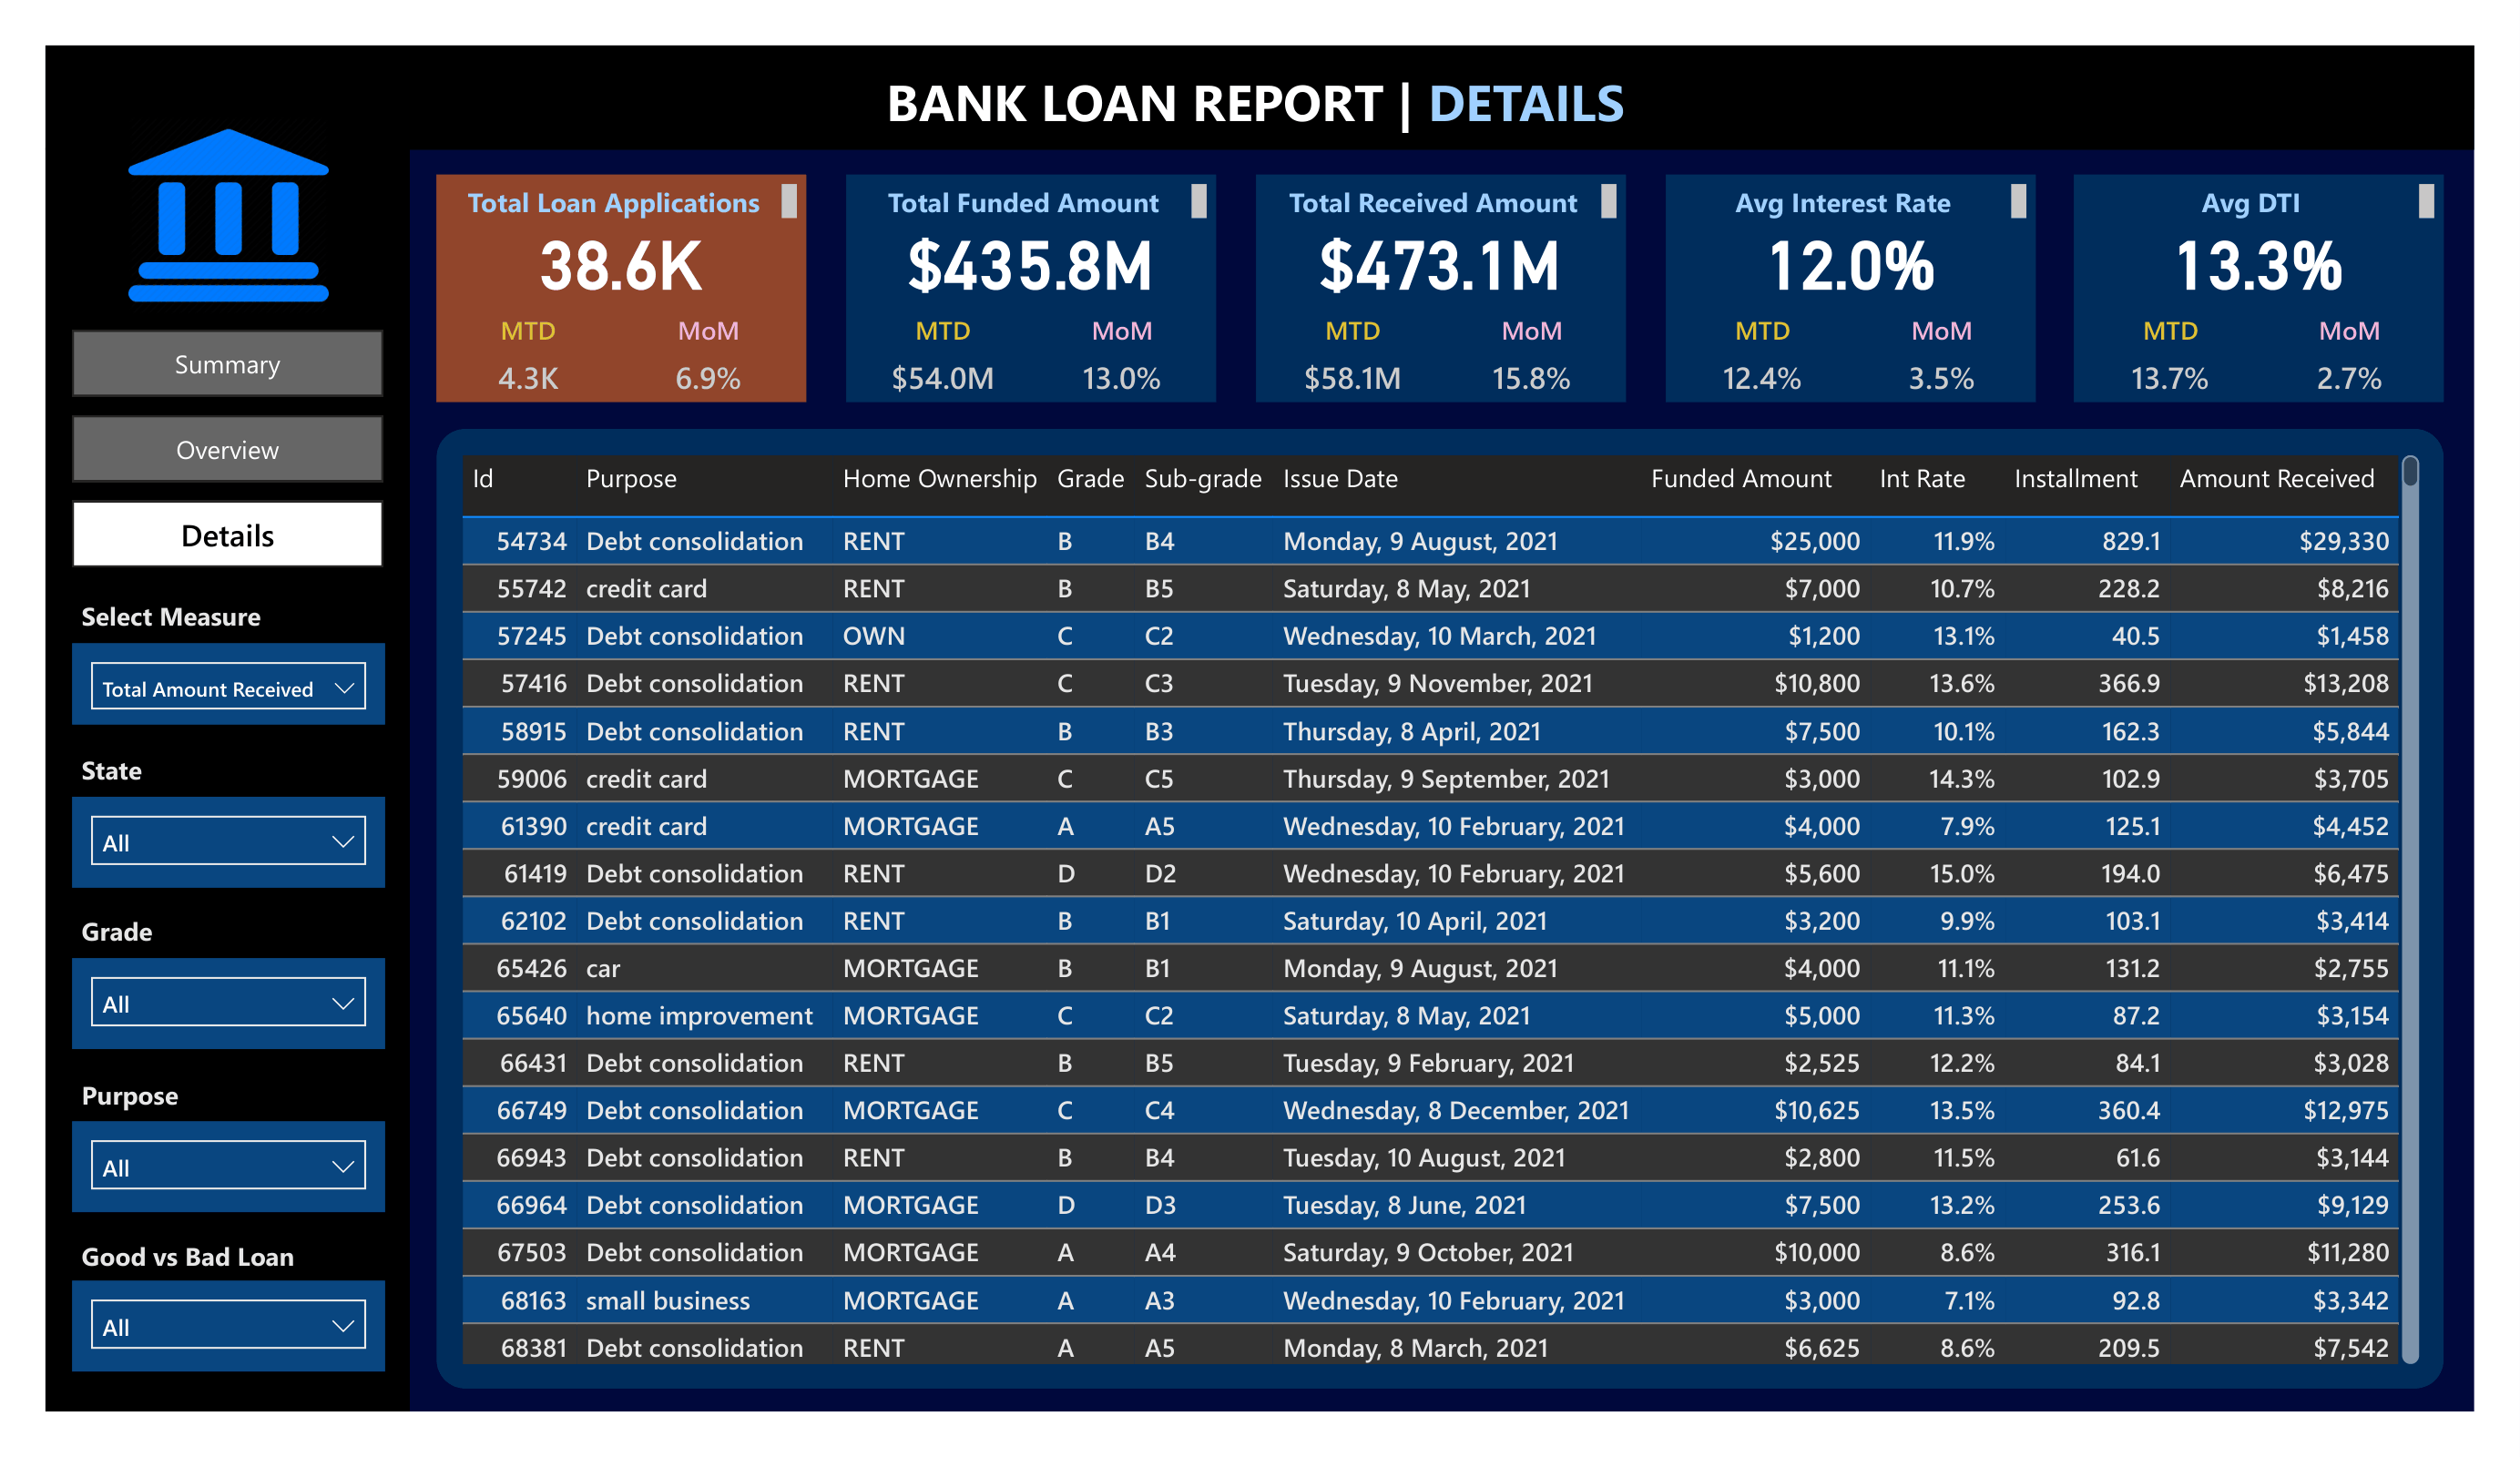

Layout of this report page (visuals, bound fields, positions):
{"tool":"powerbi","page":{"name":"Details","canvas":[1280,720],"ordinal":2},"visuals":[{"type":"shape","box":[206,67.8,194.5,120],"z":0,"group":"g1"},{"type":"shape","box":[421.9,67.8,194.5,120],"z":0,"group":"g2"},{"type":"shape","box":[637.8,67.8,194.5,120],"z":0,"group":"g3"},{"type":"shape","box":[853.7,67.8,194.5,120],"z":0,"group":"g4"},{"type":"shape","box":[1069.3,67.8,194.5,120],"z":0,"group":"g5"},{"type":"shape","box":[205.7,202.2,1058,506.2],"z":0},{"type":"shape","box":[0,0,1279.6,55],"z":1000},{"type":"cardVisual","fields":{"Data":["New Measures.Total Loan Applications"]},"box":[206,91.3,194.5,46.1],"z":1000,"group":"g1"},{"type":"cardVisual","fields":{"Data":["New Measures.Total Funded Amount"]},"box":[421.9,91.3,194.5,46.1],"z":1000,"group":"g2"},{"type":"cardVisual","fields":{"Data":["New Measures.Total Amount Received"]},"box":[637.8,91.3,194.5,46.1],"z":1000,"group":"g3"},{"type":"cardVisual","fields":{"Data":["New Measures.Avg Interest Rate"]},"box":[853.7,91.3,194.5,46.1],"z":1000,"group":"g4"},{"type":"cardVisual","fields":{"Data":["New Measures.Avg DTI"]},"box":[1069.3,91.3,194.5,46.1],"z":1000,"group":"g5"},{"type":"shape","box":[0,53.7,192,666.1],"z":2000},{"type":"textbox","box":[206,67.8,194.5,28.2],"z":2000,"group":"g1"},{"type":"textbox","box":[421.9,67.8,194.5,28.2],"z":2000,"group":"g2"},{"type":"textbox","box":[637.8,67.8,194.5,28.2],"z":2000,"group":"g3"},{"type":"textbox","box":[853.7,67.8,194.5,28.2],"z":2000,"group":"g4"},{"type":"textbox","box":[1069.3,67.8,194.5,28.2],"z":2000,"group":"g5"},{"type":"textbox","box":[437.6,5.7,443.3,49.1],"z":3000},{"type":"cardVisual","title":"MTD","fields":{"Data":["New Measures.MTD Loan Applications"]},"box":[223.9,140.7,61.4,47.3],"z":3000,"group":"g1"},{"type":"cardVisual","title":"MTD","fields":{"Data":["New Measures.MTD Funded Amount"]},"box":[439.8,140.7,66.5,47.3],"z":3000,"group":"g2"},{"type":"cardVisual","title":"MTD","fields":{"Data":["New Measures.MTD Total Amount Received"]},"box":[655.7,140.7,66.5,47.3],"z":3000,"group":"g3"},{"type":"cardVisual","title":"MTD","fields":{"Data":["New Measures.MTD Interest Rate"]},"box":[871.6,140.7,66.5,47.3],"z":3000,"group":"g4"},{"type":"cardVisual","title":"MTD","fields":{"Data":["New Measures.MTD Avg DTI"]},"box":[1087.2,140.7,66.5,47.3],"z":3000,"group":"g5"},{"type":"group","id":"g1","title":"Group 1","box":[206,67.8,194.5,120.3],"z":4000},{"type":"cardVisual","title":"MoM","fields":{"Data":["New Measures.MoM Loan Applications"]},"box":[318.6,140.7,61.4,47.3],"z":4000,"group":"g1"},{"type":"cardVisual","title":"MoM","fields":{"Data":["New Measures.MoM Total Funded Amount"]},"box":[534.5,140.7,65,47.3],"z":4000,"group":"g2"},{"type":"cardVisual","title":"MoM","fields":{"Data":["New Measures.MoM Total Amount Received"]},"box":[750.4,140.7,65,47.3],"z":4000,"group":"g3"},{"type":"cardVisual","title":"MoM","fields":{"Data":["New Measures.MoM Avg Interest Rate"]},"box":[966.3,140.7,65,47.3],"z":4000,"group":"g4"},{"type":"cardVisual","title":"MoM","fields":{"Data":["New Measures.MoM Avg DTI"]},"box":[1181.9,140.7,65,47.3],"z":4000,"group":"g5"},{"type":"group","id":"g2","title":"Group 1","box":[421.9,67.8,194.5,120.3],"z":5000},{"type":"group","id":"g3","title":"Group 1","box":[637.8,67.8,194.5,120.3],"z":6000},{"type":"group","id":"g4","title":"Group 1","box":[853.7,67.8,194.2,119.3],"z":7000},{"type":"group","id":"g5","title":"Group 1","box":[1069.3,67.8,194.2,119.3],"z":8000},{"type":"slicer","fields":{"Values":["bank_loan_data.address_state"]},"box":[14.2,395.6,164.5,48],"z":9000},{"type":"textbox","box":[14.2,368.2,82.3,32],"z":10000},{"type":"slicer","fields":{"Values":["bank_loan_data.grade"]},"box":[14.2,480.9,164.5,48],"z":11000},{"type":"textbox","box":[14.2,453.4,82.3,32],"z":12000},{"type":"slicer","fields":{"Values":["bank_loan_data.purpose"]},"box":[14.2,566.5,164.5,48],"z":13000},{"type":"textbox","box":[14.2,539,82.3,32],"z":14000},{"type":"slicer","fields":{"Values":["Select Measure.Select Measure"]},"box":[14.2,314.5,164.3,43.8],"z":15000},{"type":"slicer","fields":{"Values":["bank_loan_data.Good vs Bad Loan"]},"box":[14.2,650.7,164.5,48],"z":16000},{"type":"textbox","box":[14.2,624.4,128,30.8],"z":17000},{"type":"tableEx","fields":{"Values":["bank_loan_data.id","bank_loan_data.purpose","bank_loan_data.home_ownership","bank_loan_data.grade","bank_loan_data.sub_grade","bank_loan_data.issue_date","New Measures.Total Funded Amount","bank_loan_data.int_rate","bank_loan_data.installment","New Measures.Total Amount Received"]},"box":[213.6,211.5,1041.9,488.6],"z":18000},{"type":"textbox","box":[14.2,287.1,108.5,31.8],"z":19000},{"type":"image","box":[43.8,29.5,105.2,120.5],"z":20000},{"type":"pageNavigator","box":[14.2,150,164.3,126],"z":21000}]}

Visuals, with their boxes on the page's 1280x720 design canvas (x1, y1, x2, y2). These are canvas units, not pixel positions in the 2520x1457 screenshot, which may show the page scaled, cropped or inside an application window:
shape: x1=206, y1=68, x2=400, y2=188
shape: x1=422, y1=68, x2=616, y2=188
shape: x1=638, y1=68, x2=832, y2=188
shape: x1=854, y1=68, x2=1048, y2=188
shape: x1=1069, y1=68, x2=1264, y2=188
shape: x1=206, y1=202, x2=1264, y2=708
shape: x1=0, y1=0, x2=1280, y2=55
cardVisual - New Measures.Total Loan Applications: x1=206, y1=91, x2=400, y2=137
cardVisual - New Measures.Total Funded Amount: x1=422, y1=91, x2=616, y2=137
cardVisual - New Measures.Total Amount Received: x1=638, y1=91, x2=832, y2=137
cardVisual - New Measures.Avg Interest Rate: x1=854, y1=91, x2=1048, y2=137
cardVisual - New Measures.Avg DTI: x1=1069, y1=91, x2=1264, y2=137
shape: x1=0, y1=54, x2=192, y2=720
textbox: x1=206, y1=68, x2=400, y2=96
textbox: x1=422, y1=68, x2=616, y2=96
textbox: x1=638, y1=68, x2=832, y2=96
textbox: x1=854, y1=68, x2=1048, y2=96
textbox: x1=1069, y1=68, x2=1264, y2=96
textbox: x1=438, y1=6, x2=881, y2=55
"MTD" cardVisual: x1=224, y1=141, x2=285, y2=188
"MTD" cardVisual: x1=440, y1=141, x2=506, y2=188
"MTD" cardVisual: x1=656, y1=141, x2=722, y2=188
"MTD" cardVisual: x1=872, y1=141, x2=938, y2=188
"MTD" cardVisual: x1=1087, y1=141, x2=1154, y2=188
"Group 1" group: x1=206, y1=68, x2=400, y2=188
"MoM" cardVisual: x1=319, y1=141, x2=380, y2=188
"MoM" cardVisual: x1=534, y1=141, x2=600, y2=188
"MoM" cardVisual: x1=750, y1=141, x2=815, y2=188
"MoM" cardVisual: x1=966, y1=141, x2=1031, y2=188
"MoM" cardVisual: x1=1182, y1=141, x2=1247, y2=188
"Group 1" group: x1=422, y1=68, x2=616, y2=188
"Group 1" group: x1=638, y1=68, x2=832, y2=188
"Group 1" group: x1=854, y1=68, x2=1048, y2=187
"Group 1" group: x1=1069, y1=68, x2=1264, y2=187
slicer - bank_loan_data.address_state: x1=14, y1=396, x2=179, y2=444
textbox: x1=14, y1=368, x2=96, y2=400
slicer - bank_loan_data.grade: x1=14, y1=481, x2=179, y2=529
textbox: x1=14, y1=453, x2=96, y2=485
slicer - bank_loan_data.purpose: x1=14, y1=566, x2=179, y2=614
textbox: x1=14, y1=539, x2=96, y2=571
slicer - Select Measure.Select Measure: x1=14, y1=314, x2=178, y2=358
slicer - bank_loan_data.Good vs Bad Loan: x1=14, y1=651, x2=179, y2=699
textbox: x1=14, y1=624, x2=142, y2=655
tableEx - bank_loan_data.id x bank_loan_data.purpose: x1=214, y1=212, x2=1256, y2=700
textbox: x1=14, y1=287, x2=123, y2=319
image: x1=44, y1=30, x2=149, y2=150
pageNavigator: x1=14, y1=150, x2=178, y2=276
